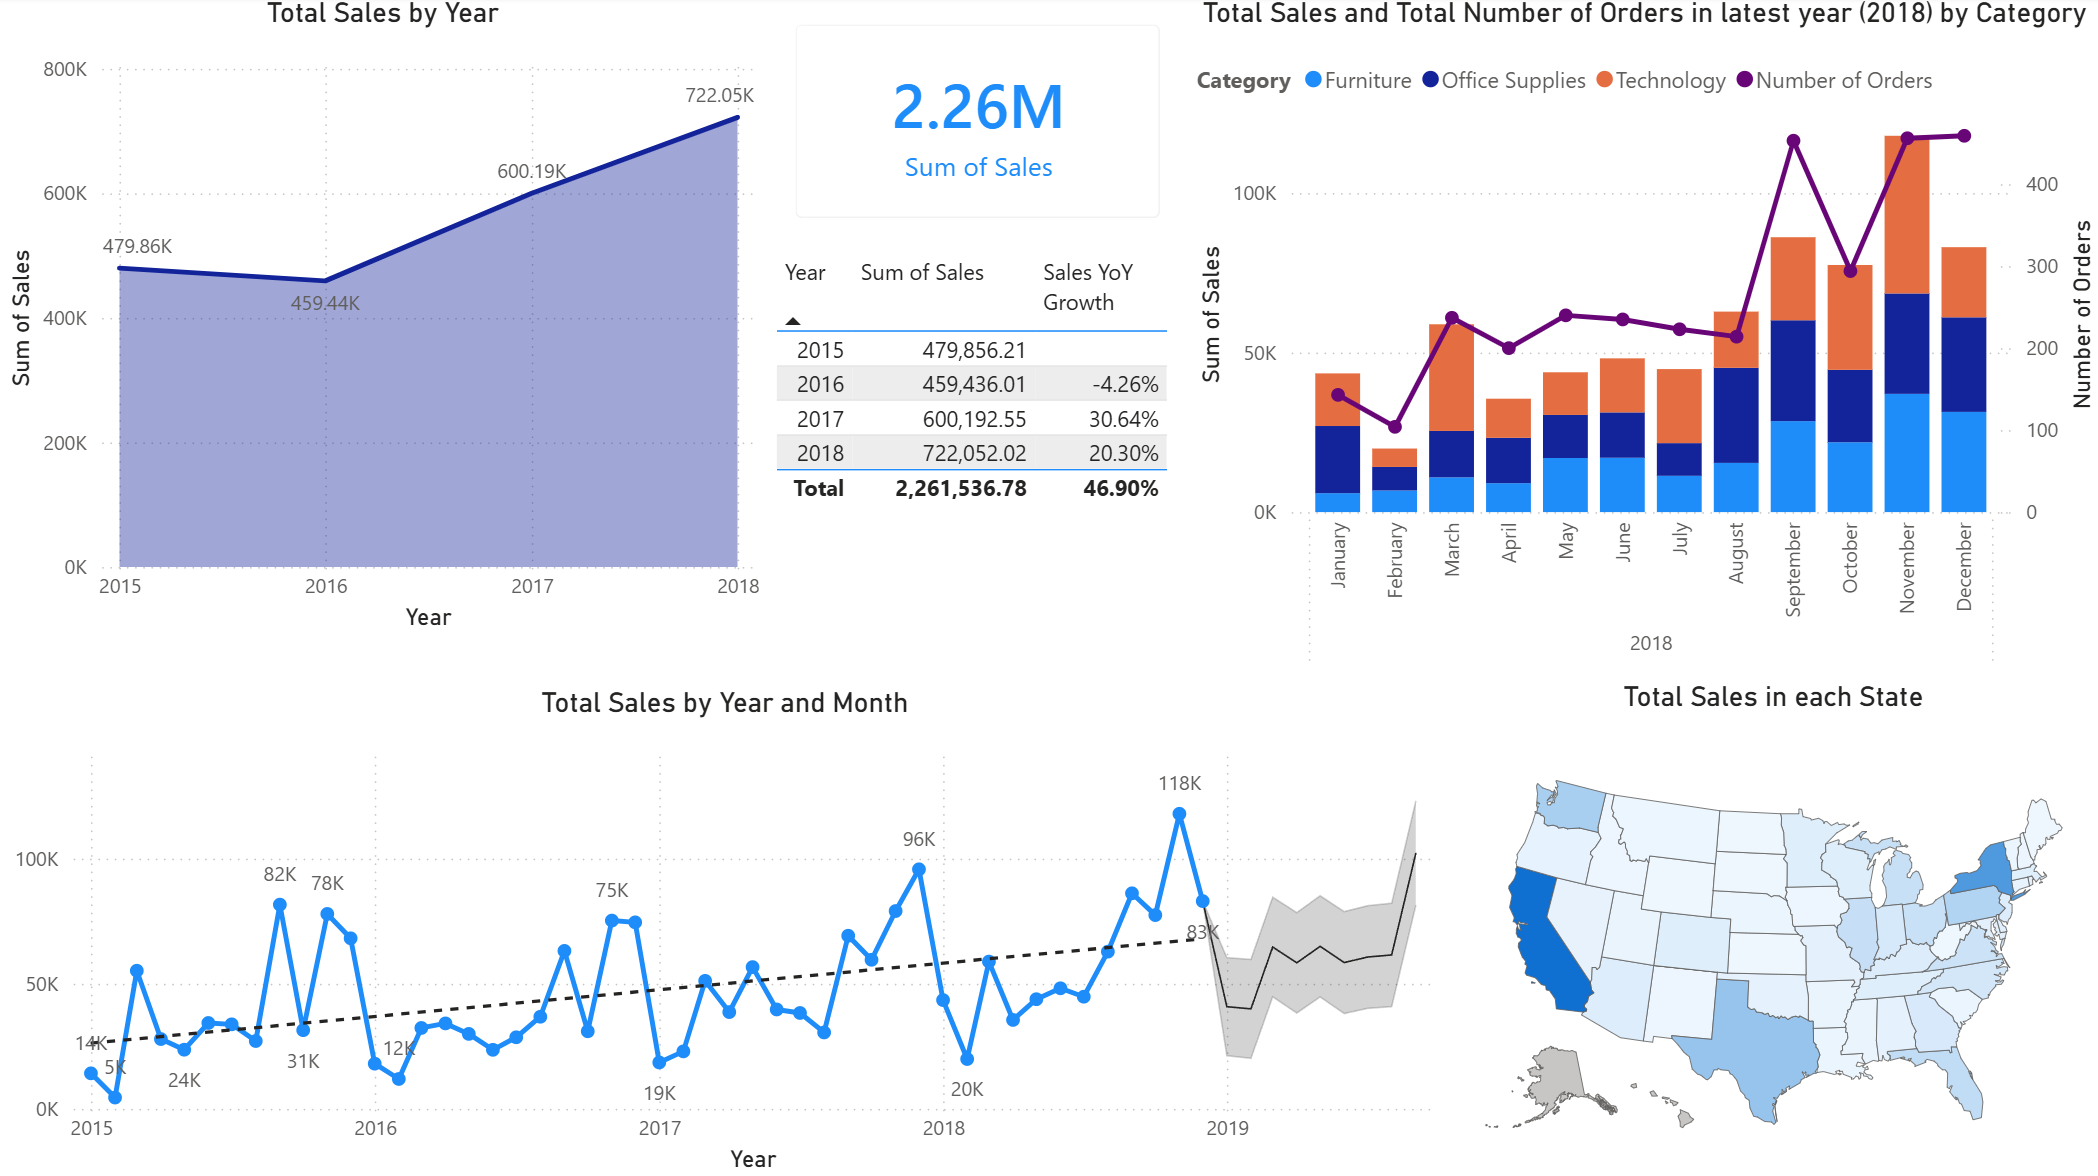

What the dashboard file says about the page in this screenshot:
{"tool":"powerbi","page":{"name":"Sales Trend","canvas":[1280,720],"ordinal":0},"visuals":[{"type":"areaChart","title":"Total Sales by Year","fields":{"Category":["superstore_sales_dataset.Order Date.Variation.Date Hierarchy.Year"],"Y":["Sum(superstore_sales_dataset.Sales)"]},"box":[0,0,467.4,390.7],"z":0},{"type":"lineChart","title":"Total Sales by Year and Month","fields":{"Category":["superstore_sales_dataset.Order Date.Variation.Date Hierarchy.Year","superstore_sales_dataset.Order Date.Variation.Date Hierarchy.Month"],"Y":["Sum(superstore_sales_dataset.Sales)"]},"box":[3.5,415.1,876.7,304.7],"z":1000},{"type":"lineStackedColumnComboChart","title":"Total Sales and Total Number of Orders in latest year (2018) by Category","fields":{"Y":["Sum(superstore_sales_dataset.Sales)"],"Series":["superstore_sales_dataset.Category Hierarchy.Category"],"Category":["superstore_sales_dataset.Order Date.Variation.Date Hierarchy.Year","superstore_sales_dataset.Order Date.Variation.Date Hierarchy.Month"],"Y2":["CountNonNull(superstore_sales_dataset.Row ID)"]},"box":[724.4,0,555.8,416.3],"z":2000},{"type":"tableEx","fields":{"Values":["superstore_sales_dataset.Order Date.Variation.Date Hierarchy.Year","Sum(superstore_sales_dataset.Sales)","superstore_sales_dataset.Sales YoY Growth"]},"box":[467.4,152.3,250,208.1],"z":3000},{"type":"cardVisual","title":"Total sales from 2015 to 2018","fields":{"Data":["Sum(superstore_sales_dataset.Sales)"]},"box":[467.4,0,257,152.3],"z":4000},{"type":"shapeMap","title":"Total Sales in each State","fields":{"Value":["Sum(superstore_sales_dataset.Sales)"],"Category":["superstore_sales_dataset.State"]},"box":[880.2,416.3,400,303.5],"z":4001}]}

Visuals, with their boxes in screenshot pixels (x1, y1, x2, y2), scaled from the page's 1280x720 canvas onto the 2098x1176 screenshot:
"Total Sales by Year" areaChart: 0 0 766 638
"Total Sales by Year and Month" lineChart: 6 678 1443 1175
"Total Sales and Total Number of Orders in latest year (2018) by Category" lineStackedColumnComboChart: 1187 0 2097 680
tableEx - superstore_sales_dataset.Order Date.Variation.Date Hierarchy.Year x Sum(superstore_sales_dataset.Sales): 766 249 1176 589
"Total sales from 2015 to 2018" cardVisual: 766 0 1187 249
"Total Sales in each State" shapeMap: 1443 680 2097 1175
